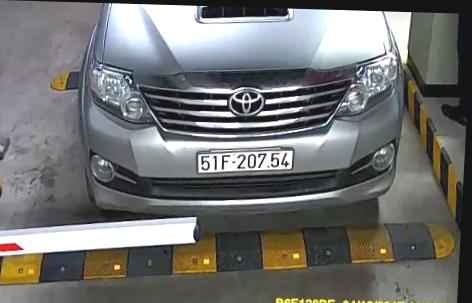License_Plate: (193, 144, 303, 176)
